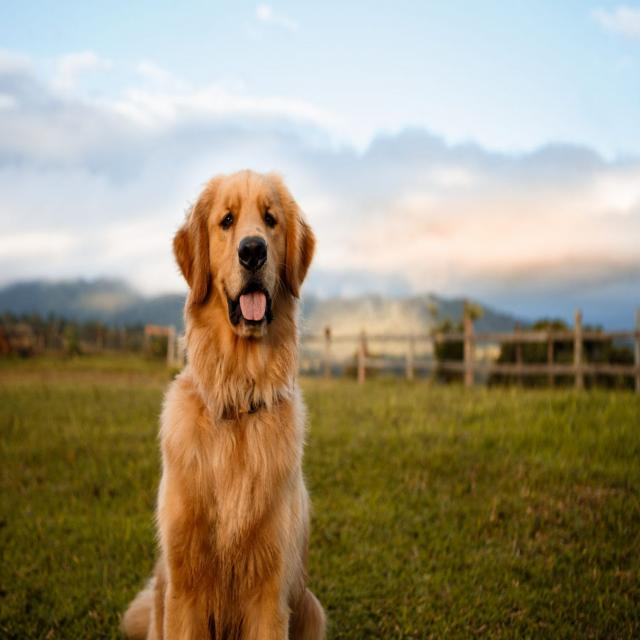dogs: (119, 169, 327, 640)
